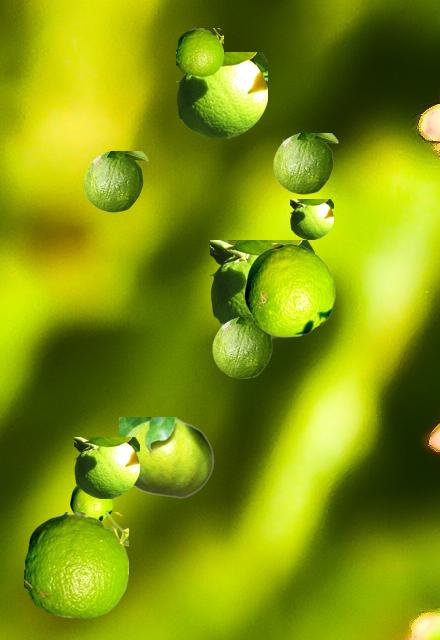dalandan: (24, 512, 127, 617), (210, 240, 313, 338), (244, 243, 334, 336), (176, 52, 266, 137), (119, 417, 213, 497), (83, 151, 147, 211), (74, 437, 138, 497), (273, 133, 337, 193), (212, 317, 272, 377), (176, 28, 222, 75), (290, 199, 332, 238), (70, 485, 112, 520)
